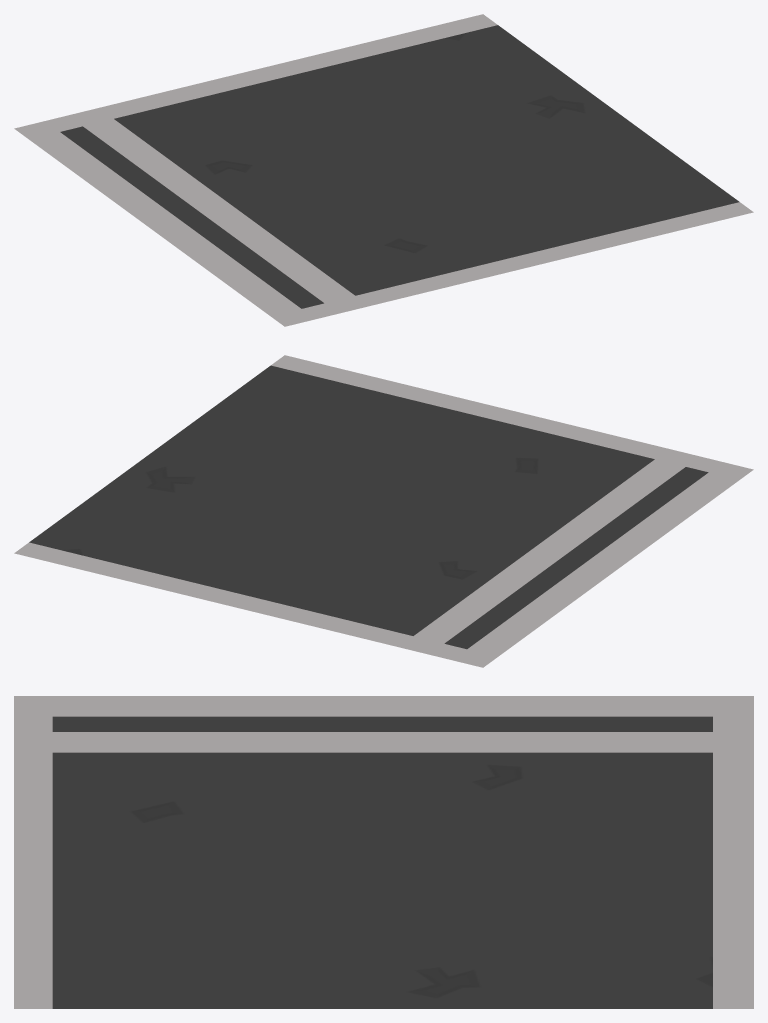
File: SM_Gen_Env_Road_Intersection_02.glb
3 renders of one model, top to bottom at view 1: azimuth 30°, elevation 25°; view 2: azimuth 150°, elevation 25°; view 3: azimuth 270°, elevation 25°, orthographic. The views are drawn at different scales.
Visible parts, largest first — view 1: SM_Gen_Env_Road_Intersection_022; view 2: SM_Gen_Env_Road_Intersection_022; view 3: SM_Gen_Env_Road_Intersection_022.
Part boxes in pixels (box(x1,y1,x2,y2)): SM_Gen_Env_Road_Intersection_022: box(14, 14, 753, 326); SM_Gen_Env_Road_Intersection_022: box(14, 355, 753, 667); SM_Gen_Env_Road_Intersection_022: box(14, 696, 753, 1008).
Bounding box in the file's own units: 5 × 0 × 5.
Materials: 1 (1 with a texture image).
